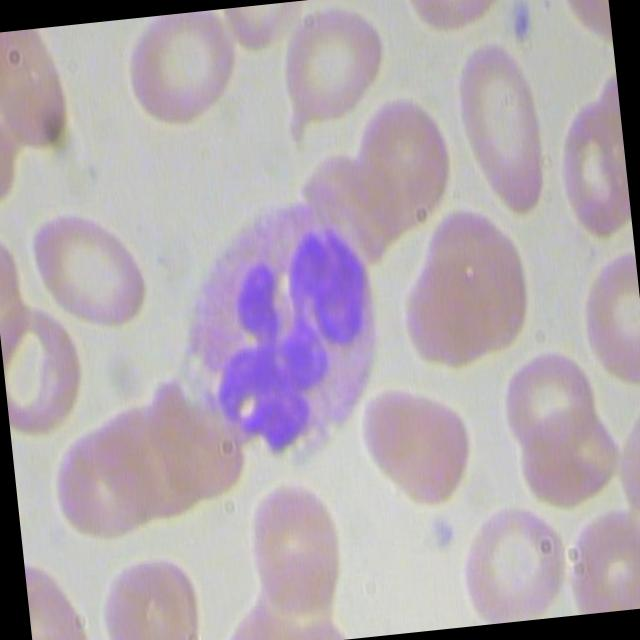Platelets: (500, 0, 543, 48)
RBC: (382, 201, 541, 381), (448, 30, 566, 218), (237, 464, 361, 628), (20, 188, 154, 338), (354, 367, 486, 517), (262, 0, 395, 145), (345, 86, 467, 241), (449, 490, 579, 626), (120, 8, 247, 128), (490, 334, 608, 460), (0, 293, 94, 441), (89, 542, 209, 640)
WBC: (162, 183, 403, 481)
